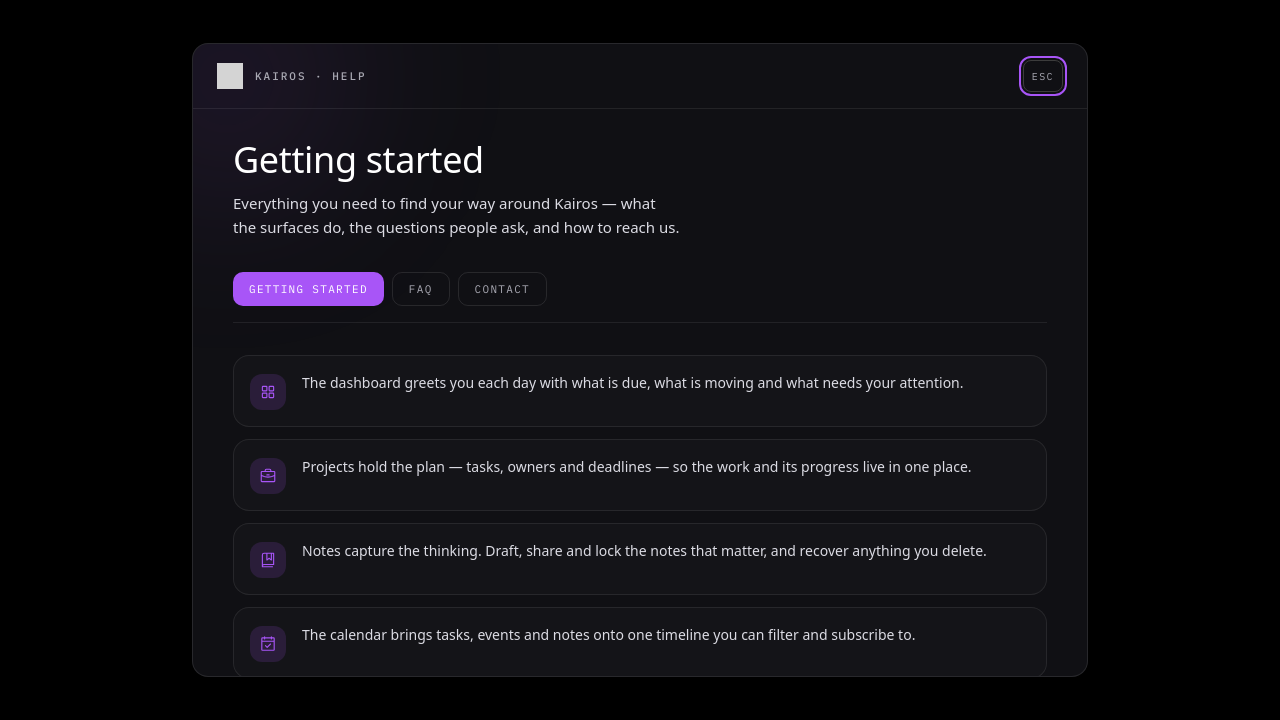
Test: OnboardingSheet › switches to the Contact tab
This screenshot has width=1280, height=720.
Click the button "Contact": (502, 289) [458,272,547,306]
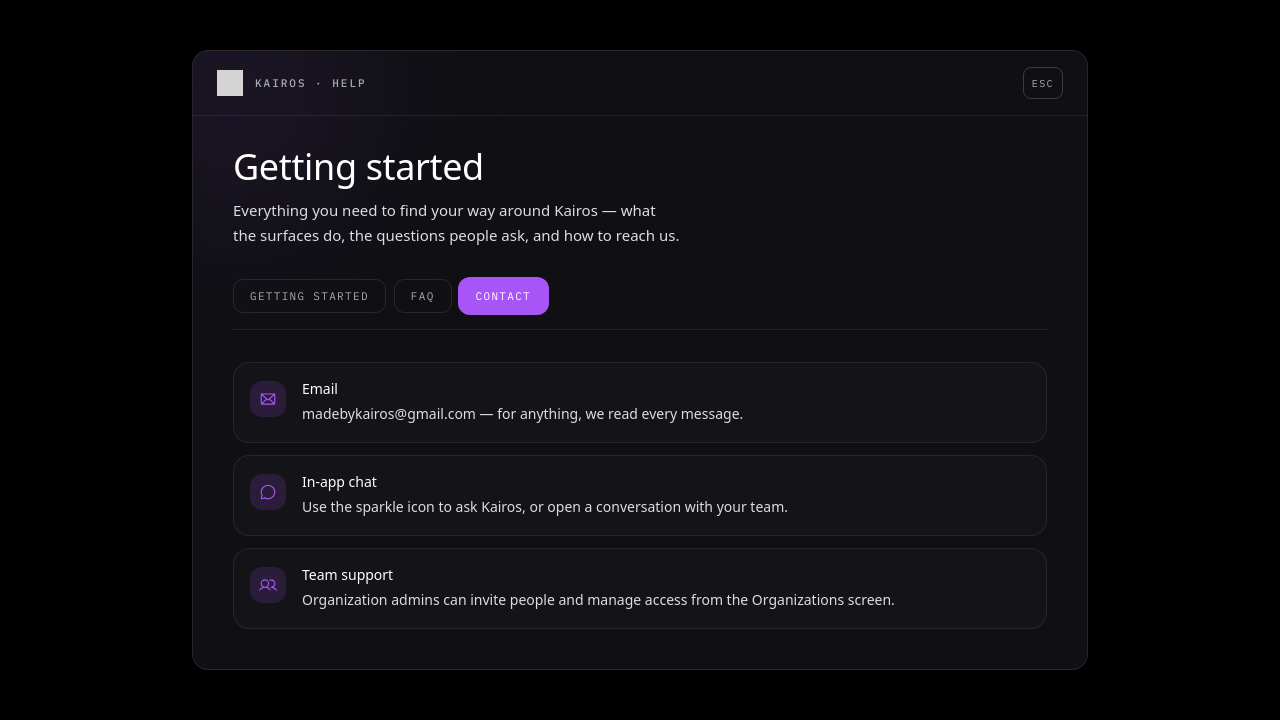
Expected: the text "Email" is shown, [302,379,338,398]
